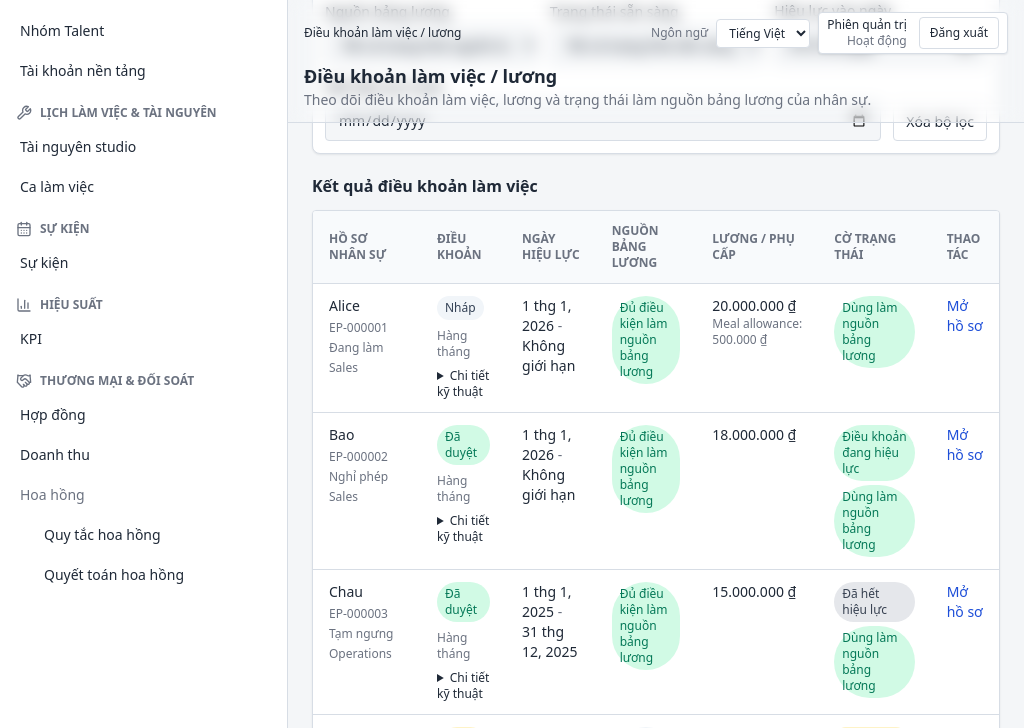
it: Employment Terms admin workspace › renders the real workspace route, structured-terms notice, list, and HRET anchor links
(page scrolled)
Expected: the number of headings "Điều khoản làm việc / lương" is 1, [304,64,557,88]
Expected: the text "Alice" is shown, [329,296,360,315]
Click the heading "Chi tiết kỹ thuật" below "Nháp" at (464,384), box [437,368,490,400]
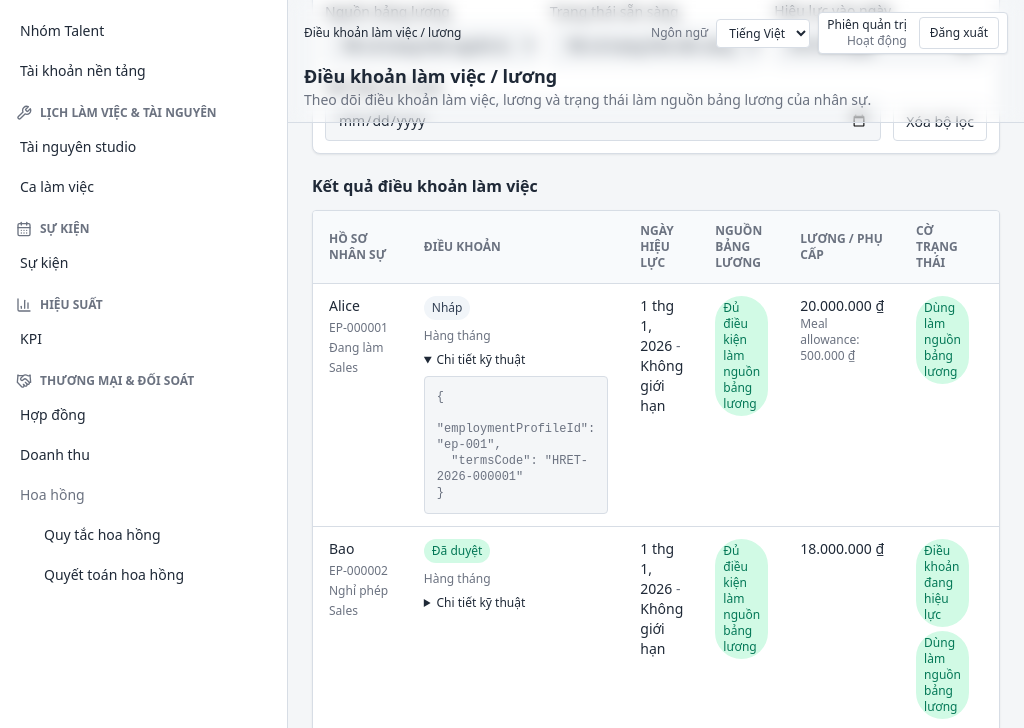
Expected: the text "20.000.000 ₫" is shown, [800,296,884,316]
Now the text "HRET-2026-000001" is shown, box [437,390,602,500]
